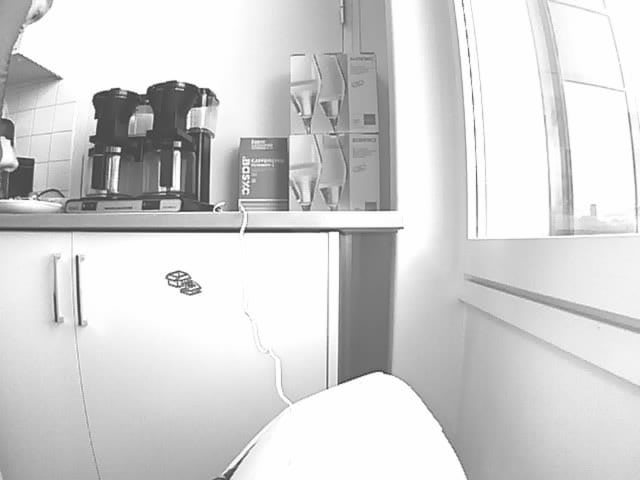empty coffee: (86, 147, 135, 197)
